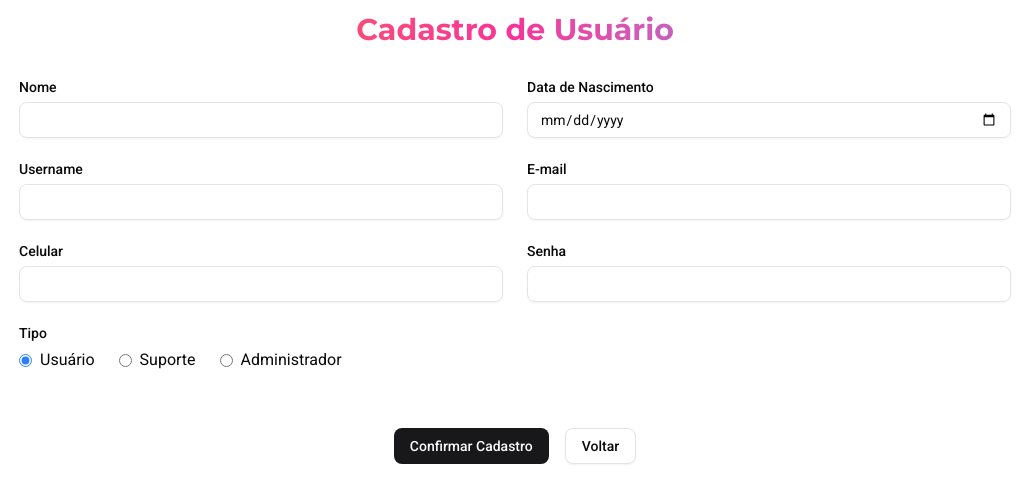
Test case: AddUserPage Component › Formulário e API › Deve mostrar erro de campo quando a API retorna 400 com field
This screenshot has width=1031, height=501.
In the field labelled "Nome": (261, 120) x1=19 y1=102 x2=503 y2=138, type "Novo Usuário"
In the field labelled "Username": (261, 202) x1=19 y1=184 x2=503 y2=220, type "novoUser"
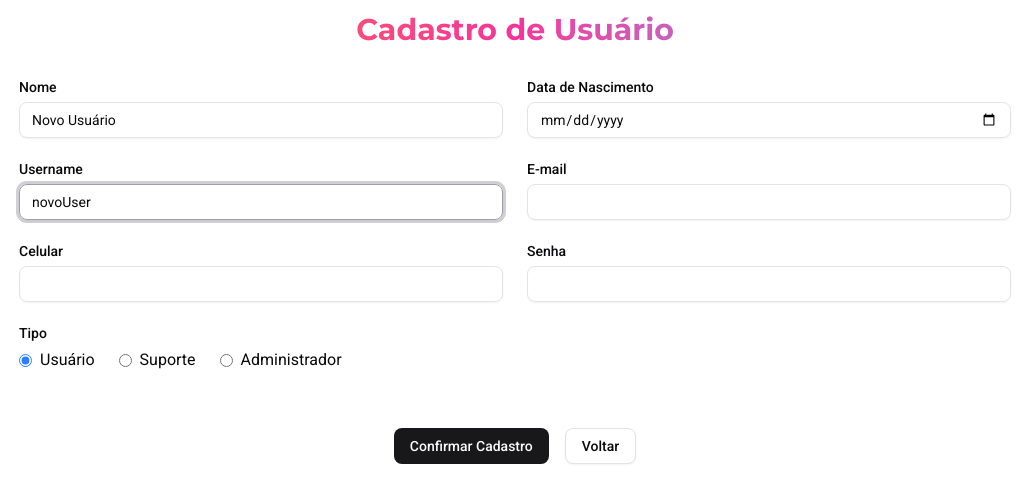
In the date field labelled "Data de Nascimento": (769, 120) x1=527 y1=102 x2=1011 y2=138, type "2000-01-01"
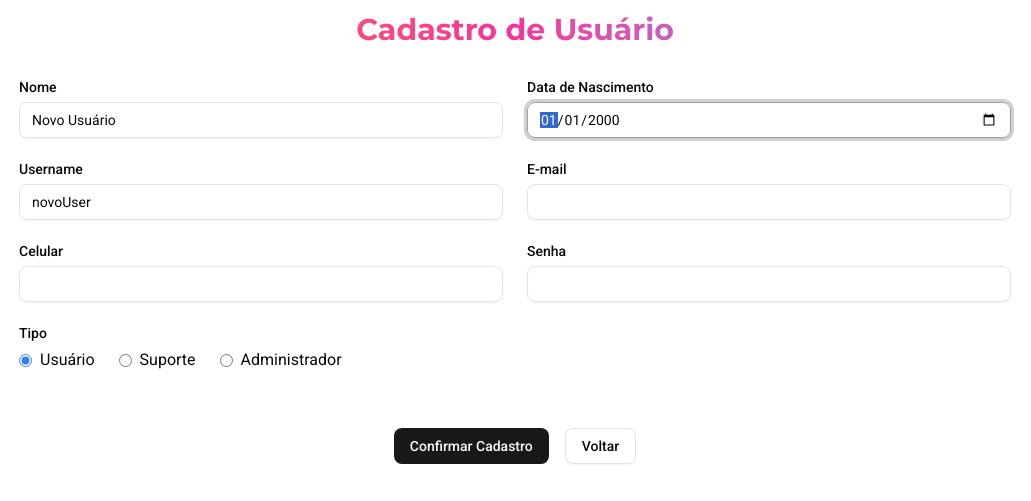
In the field labelled "E-mail": (769, 202) x1=527 y1=184 x2=1011 y2=220, type "novo@teste.com"
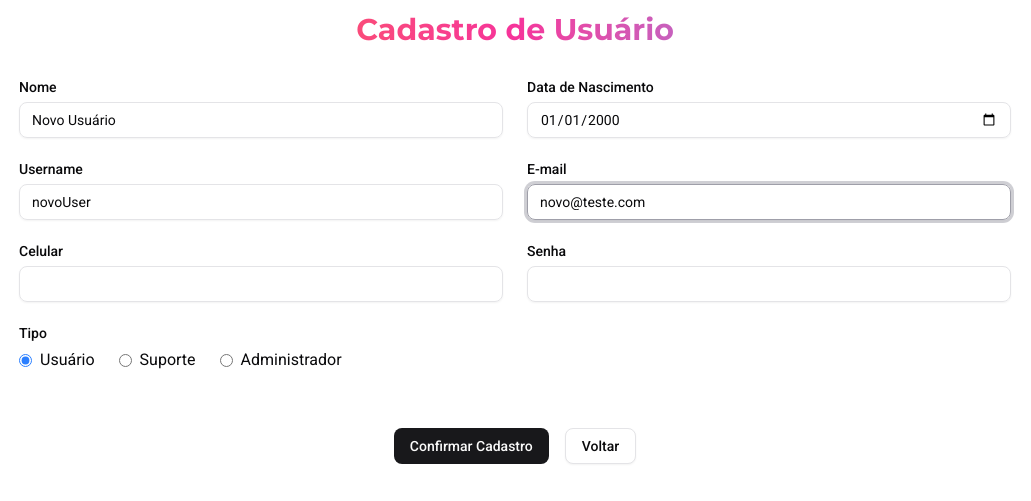
In the field labelled "Celular": (261, 284) x1=19 y1=266 x2=503 y2=302, type "5592929999999"
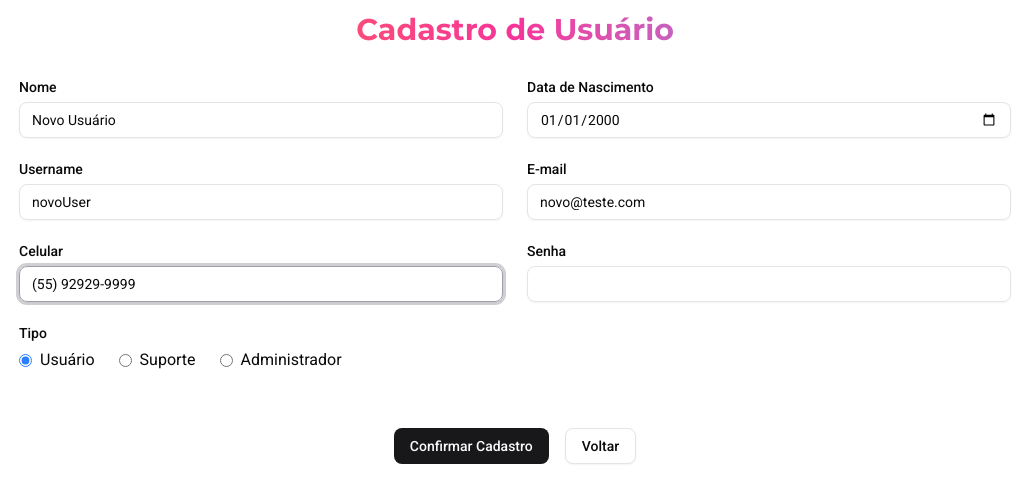
In the password field labelled "Senha": (769, 284) x1=527 y1=266 x2=1011 y2=302, type "12345Ab@"
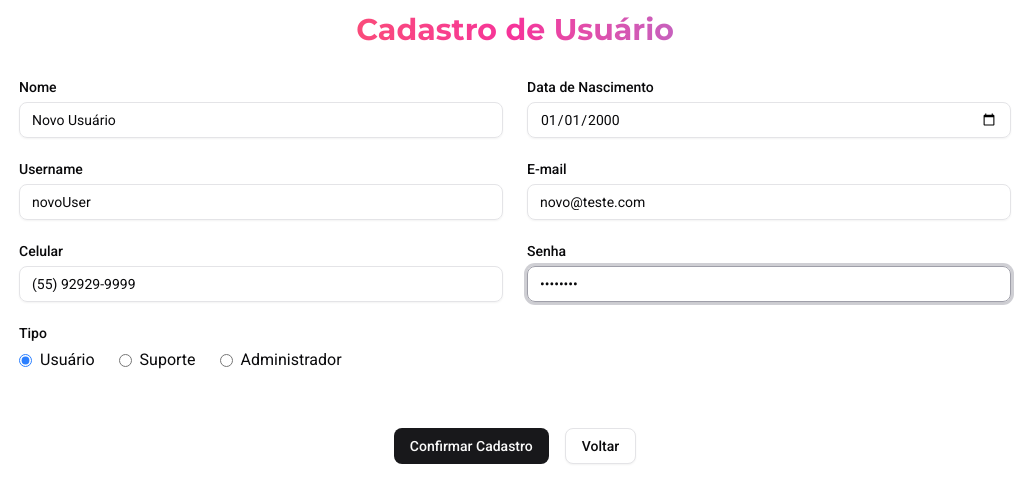
Click the button "Confirmar Cadastro": (471, 446) x1=394 y1=428 x2=549 y2=464
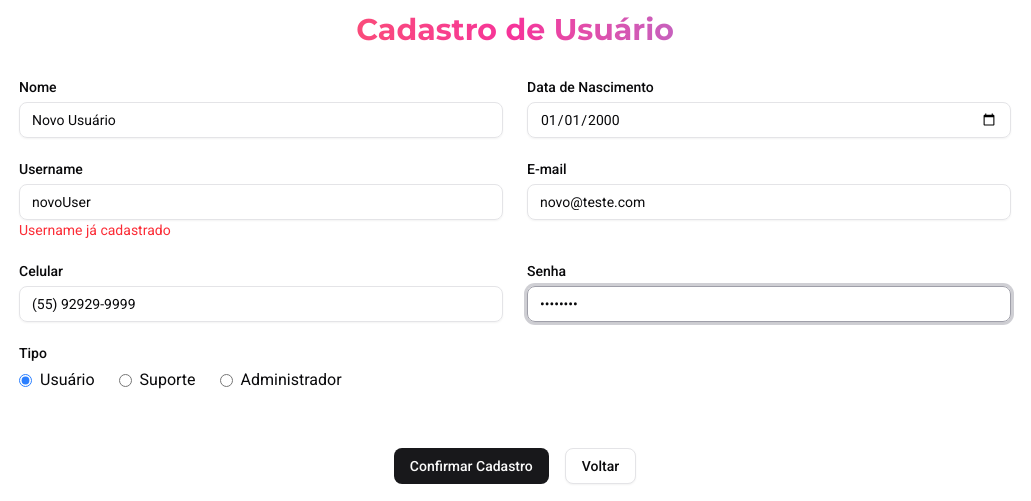
expect the text "Username já cadastrado" is shown: met, box x1=19 y1=222 x2=171 y2=238
